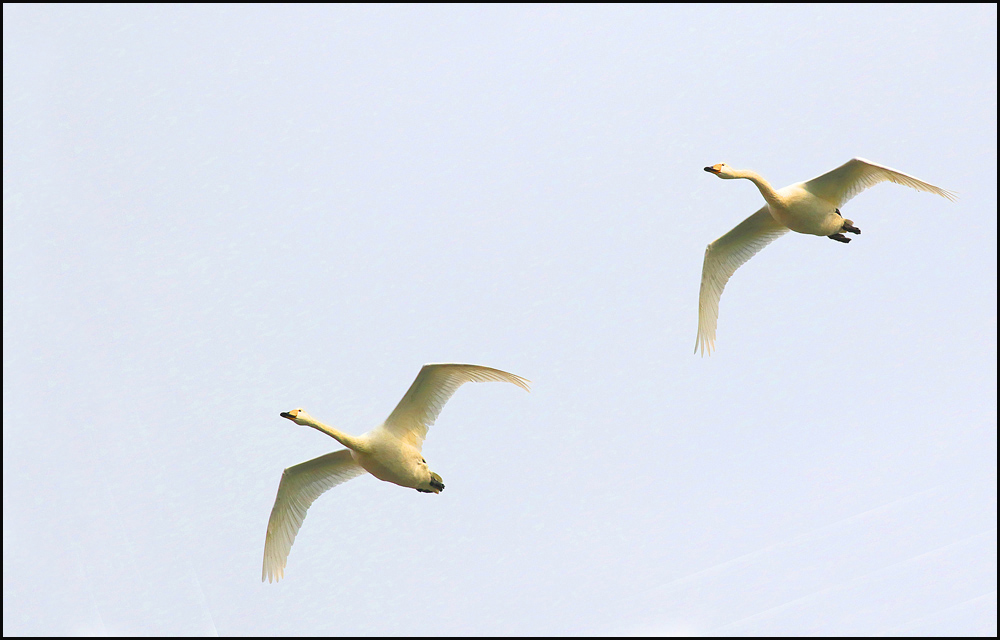bird: (250, 358, 531, 588), (680, 153, 961, 363)
